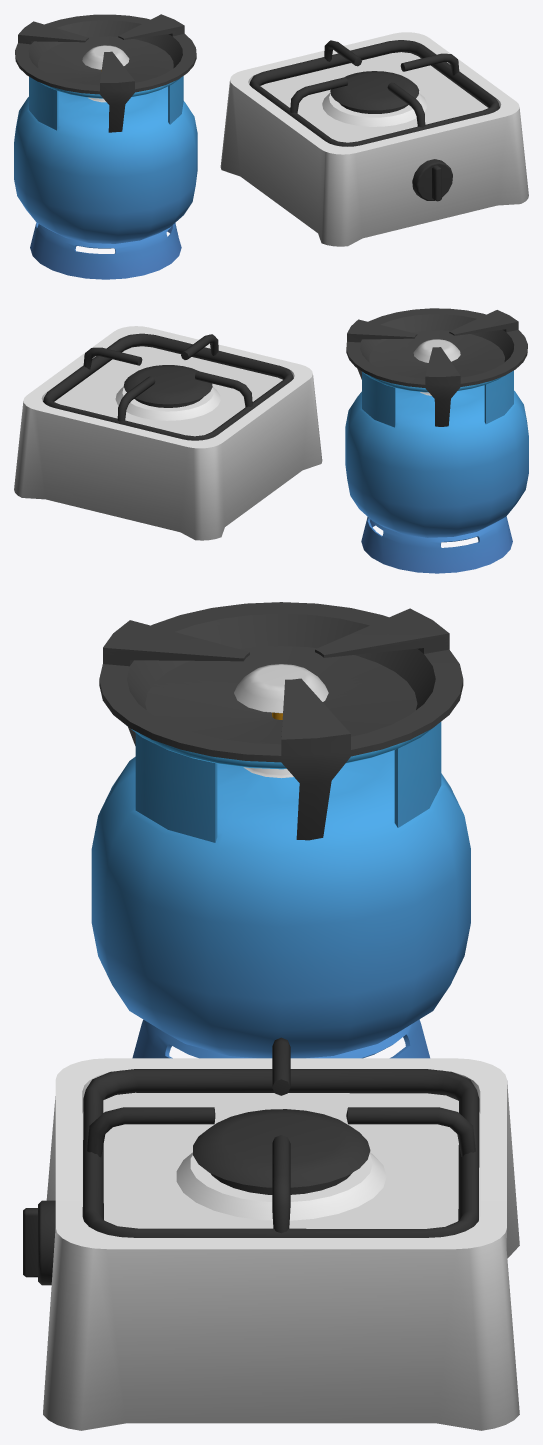
Rendered from stove.fbx.
3 renders of one model, top to bottom at view 1: azimuth 30°, elevation 25°; view 2: azimuth 150°, elevation 25°; view 3: azimuth 270°, elevation 25°, orthographic. The views are drawn at different scales.
Parts seen in each view (by area): view 1: stove, gas, set, grid, switch, fire; view 2: stove, gas, set, grid, fire; view 3: stove, gas, set, grid, fire, switch.
Boxes of the visible parts, bbox=[...] form: stove: bbox=[220, 32, 528, 246]; gas: bbox=[14, 76, 197, 279]; set: bbox=[15, 14, 196, 132]; grid: bbox=[249, 40, 499, 146]; switch: bbox=[412, 159, 452, 201]; fire: bbox=[82, 45, 129, 71]; stove: bbox=[14, 326, 322, 540]; gas: bbox=[345, 370, 528, 573]; set: bbox=[346, 308, 527, 426]; grid: bbox=[43, 333, 293, 440]; fire: bbox=[413, 339, 460, 362]; stove: bbox=[43, 1058, 519, 1430]; gas: bbox=[91, 722, 470, 1058]; set: bbox=[99, 602, 463, 840]; grid: bbox=[82, 1037, 479, 1237]; fire: bbox=[234, 664, 328, 719]; switch: bbox=[23, 1200, 55, 1285].
Size of the model in its own units: 5.38 by 2.56 by 2.32.
Materials: 1 (1 with a texture image).
